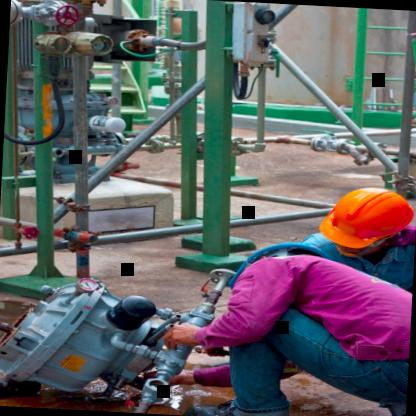helmet: (301, 175, 416, 269)
